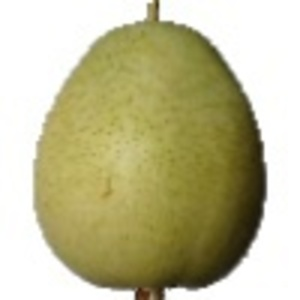pera: (32, 1, 267, 300)
